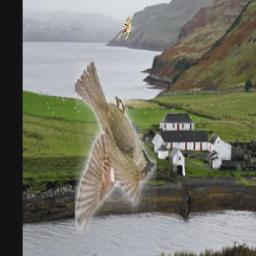Sparrow: (74, 63, 156, 235), (117, 17, 133, 40)
